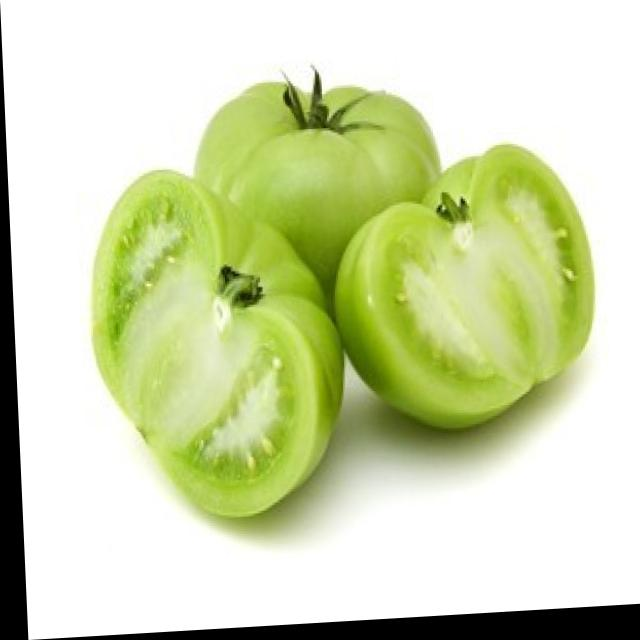yesil: (172, 64, 450, 297)
